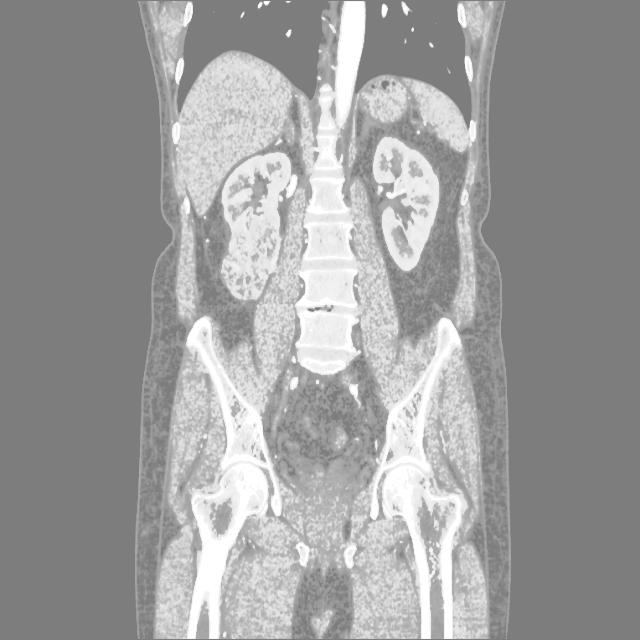TUMOR: (177, 169, 462, 250)
